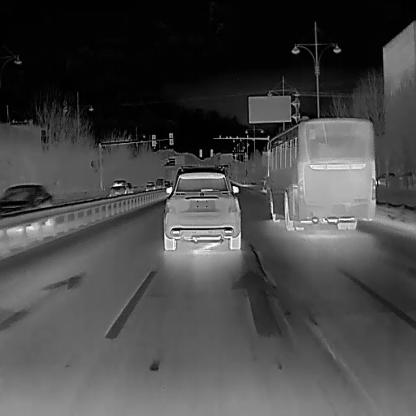bus: (261, 116, 375, 232)
car: (162, 165, 241, 251), (0, 181, 57, 235), (108, 178, 128, 195), (376, 170, 396, 185), (155, 176, 164, 188), (145, 180, 155, 190), (164, 179, 171, 187)
